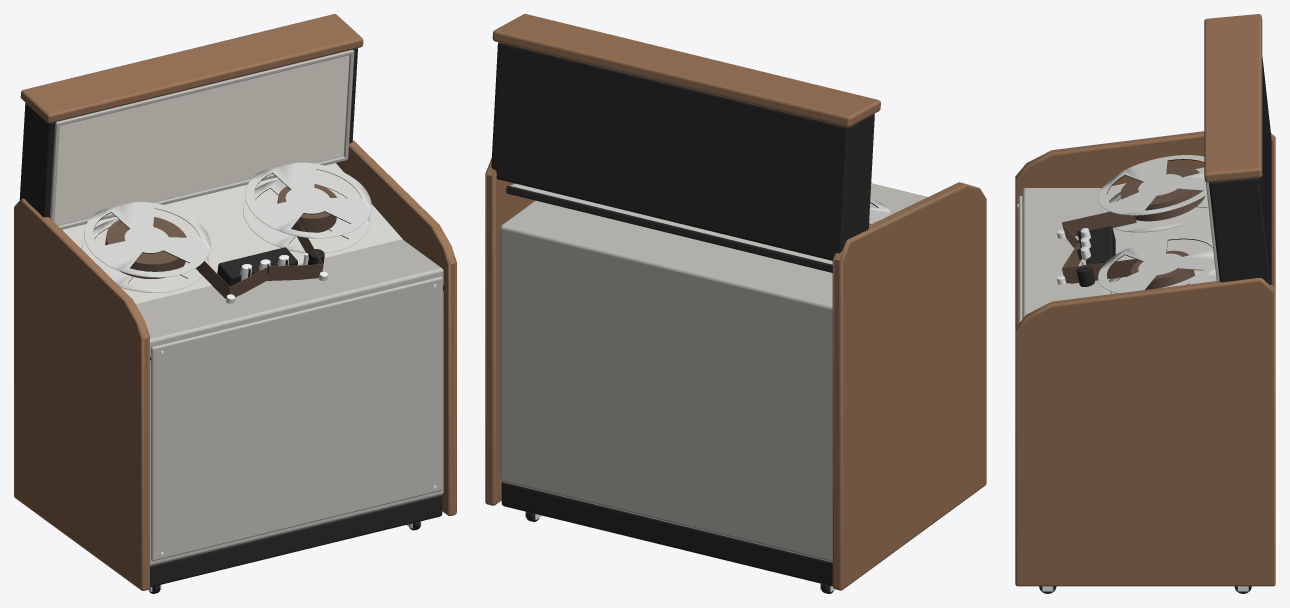
Rendered from multitrack.glb.
3 renders of one model, left to right at view 1: azimuth 30°, elevation 25°; view 2: azimuth 150°, elevation 25°; view 3: azimuth 270°, elevation 25°, orthographic. The views are drawn at different scales.
Visible parts, largest first — view 1: Face, Cheek, VUGlass, VU, Body, BridgeCap, FaceFrame, Plate.004, Cheek.001, Base, Flange.003, Flange.001 (+9 smaller); view 2: Body, Cheek, BridgeBody, BridgeCap, Base, Cheek.001, DeckBody, Plate.004; view 3: Cheek.001, BridgeCap, Cheek, BridgeBody, Body, Flange.003, Flange.001, Plate.004, TapePack, Tape, HeadBlock, Flange (+5 smaller).
Part boxes in pixels (x1=…): Face: x1=162, y1=289, x2=434, y2=549; Cheek: x1=14, y1=198, x2=149, y2=590; VUGlass: x1=54, y1=55, x2=349, y2=226; VU: x1=54, y1=55, x2=349, y2=225; Body: x1=135, y1=239, x2=443, y2=565; BridgeCap: x1=20, y1=14, x2=363, y2=123; FaceFrame: x1=151, y1=276, x2=442, y2=560; Plate.004: x1=62, y1=163, x2=402, y2=303; Cheek.001: x1=337, y1=140, x2=456, y2=515; Base: x1=150, y1=495, x2=442, y2=587; Flange.003: x1=245, y1=162, x2=371, y2=238; Flange.001: x1=84, y1=201, x2=210, y2=277; Body: x1=500, y1=183, x2=927, y2=562; Cheek: x1=832, y1=182, x2=986, y2=590; BridgeBody: x1=491, y1=42, x2=874, y2=260; BridgeCap: x1=492, y1=14, x2=880, y2=127; Base: x1=501, y1=482, x2=832, y2=586; Cheek.001: x1=485, y1=158, x2=534, y2=505; DeckBody: x1=506, y1=183, x2=832, y2=272; Plate.004: x1=509, y1=183, x2=832, y2=264; Cheek.001: x1=1015, y1=278, x2=1275, y2=586; BridgeCap: x1=1204, y1=14, x2=1262, y2=182; Cheek: x1=1015, y1=131, x2=1275, y2=327; BridgeBody: x1=1209, y1=57, x2=1271, y2=285; Body: x1=1022, y1=188, x2=1103, y2=318; Flange.003: x1=1098, y1=234, x2=1214, y2=293; Flange.001: x1=1098, y1=155, x2=1206, y2=215; Plate.004: x1=1107, y1=167, x2=1212, y2=293; TapePack: x1=1120, y1=166, x2=1204, y2=221; Tape: x1=1062, y1=211, x2=1136, y2=236; HeadBlock: x1=1086, y1=226, x2=1115, y2=264; Flange: x1=1102, y1=172, x2=1208, y2=232.
Size of the model in its own units: 1.02 by 1.33 by 0.72.
